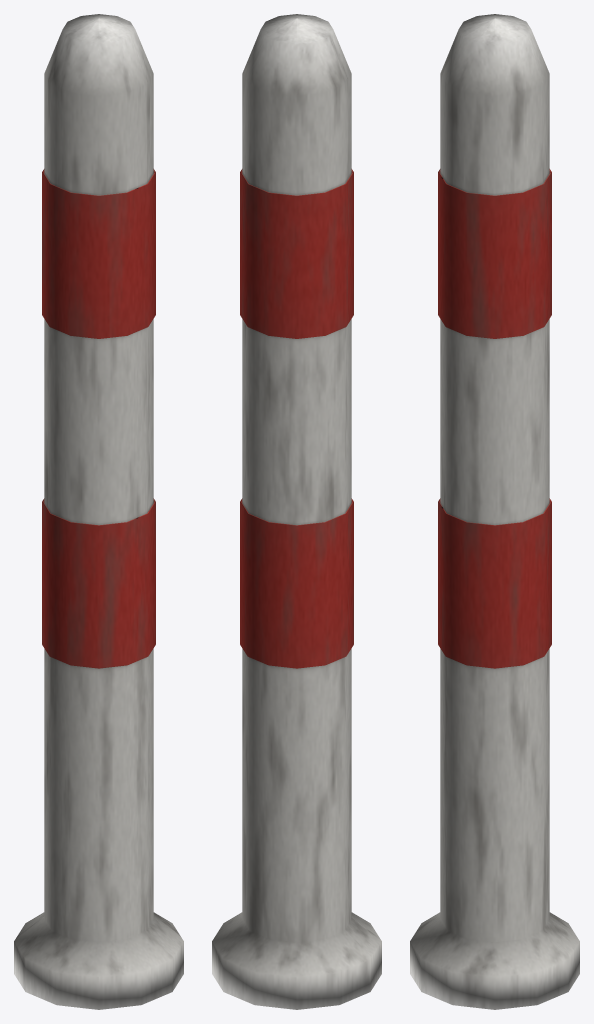
Rendered from ul_slupek.glb.
3 renders of one model, left to right at view 1: azimuth 30°, elevation 25°; view 2: azimuth 150°, elevation 25°; view 3: azimuth 270°, elevation 25°, orthographic.
Parts seen in each view (by area): view 1: Slupek; view 2: Slupek; view 3: Slupek.
Boxes of the visible parts, x1,y1,x2,y2 form: Slupek: (14,14,183,1009); Slupek: (212,14,381,1009); Slupek: (410,14,579,1009).
Size of the model in its own units: 0.14 by 0.87 by 0.14.
1 material, 1 textured.
